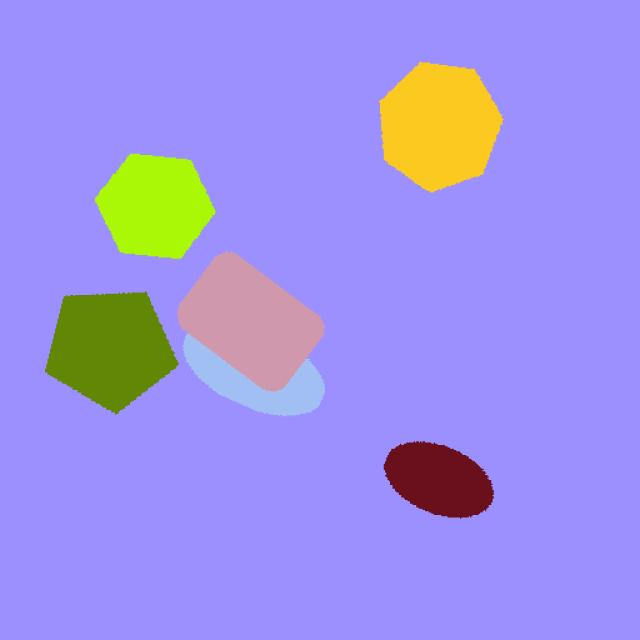Heptagon: (358, 33, 540, 217)
Hexagon: (84, 140, 234, 264)
Oval: (181, 312, 350, 432), (382, 425, 511, 546)
Pentagon: (30, 284, 189, 431)
Rectangle: (168, 236, 326, 393)
